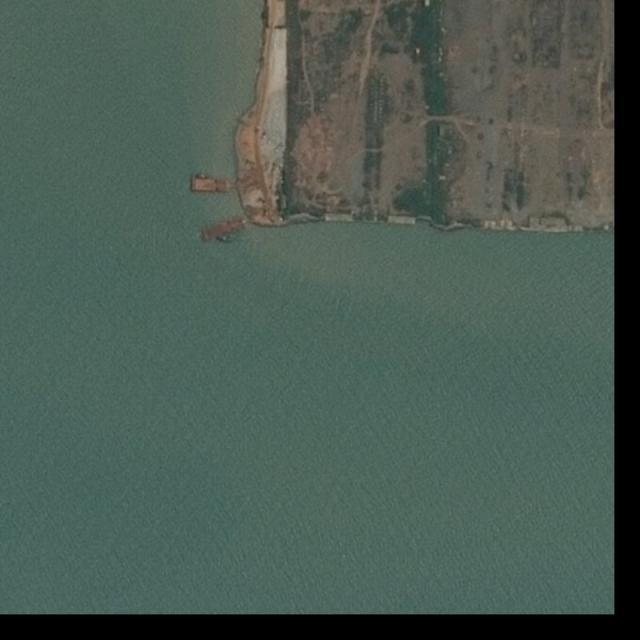ship: (200, 217, 248, 243), (196, 178, 236, 193), (190, 174, 196, 192), (218, 237, 234, 243), (197, 174, 206, 179)
